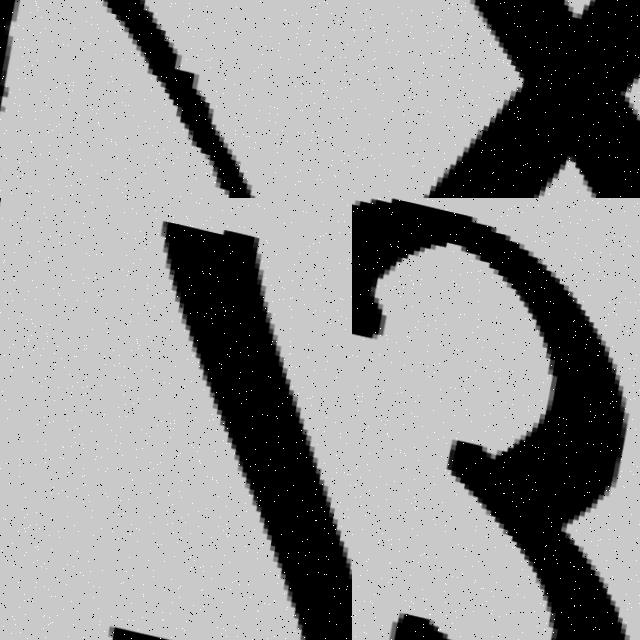3: (352, 198, 640, 640)
7: (53, 210, 352, 640)
V: (98, 0, 252, 198)
X: (352, 0, 640, 198)
